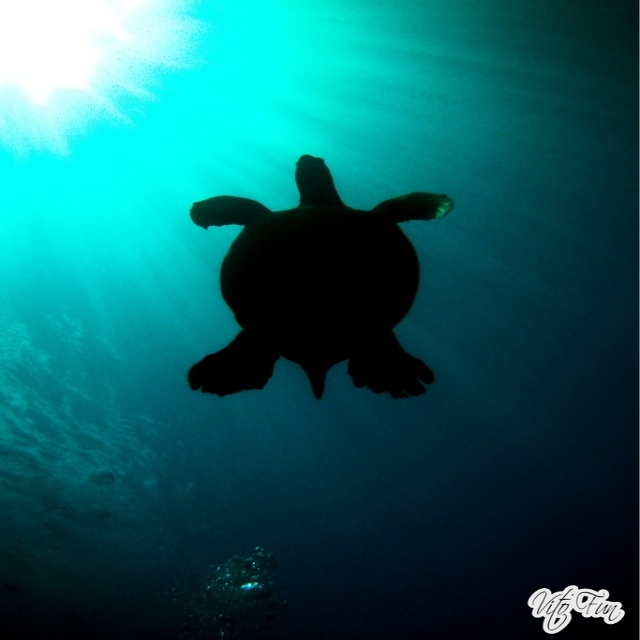Sea turtle: (185, 151, 455, 401)
